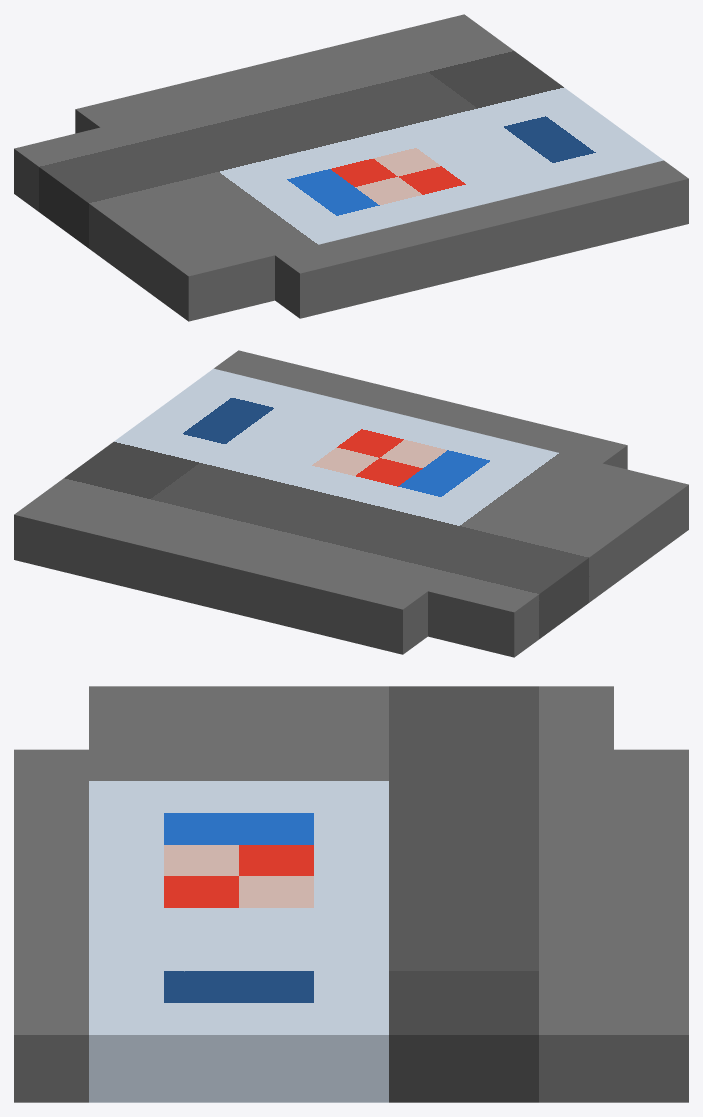
Rendered from cartridge4.fbx.
3 views of the same model, one above another, from view 1: azimuth 30°, elevation 25°; view 2: azimuth 150°, elevation 25°; view 3: azimuth 270°, elevation 25° (orthographic). The views are drawn at different scales.
Parts seen in each view (by area): view 1: cartridge4; view 2: cartridge4; view 3: cartridge4.
Boxes of the visible parts, bbox=[...] form: cartridge4: bbox=[14, 14, 688, 321]; cartridge4: bbox=[14, 350, 688, 657]; cartridge4: bbox=[14, 686, 688, 1102].
Size of the model in its own units: 11 by 1 by 9.
